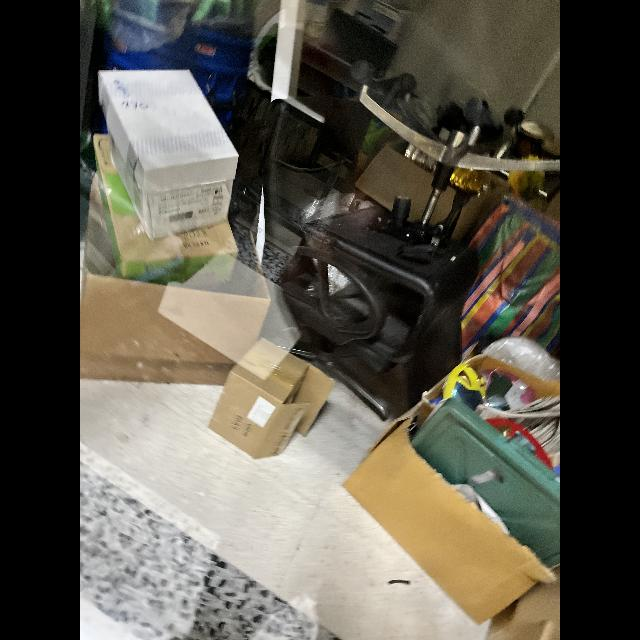cardboard_box: (350, 411, 540, 623), (80, 204, 268, 390), (90, 62, 236, 240), (88, 135, 240, 277), (210, 342, 338, 456)
